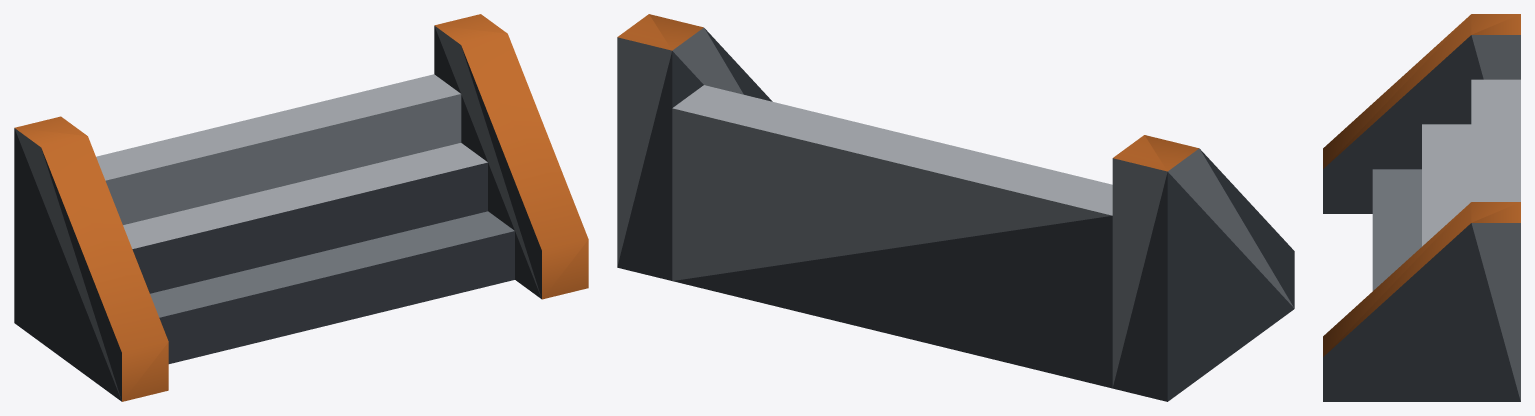
File: Kit_stairs-small-edges.fbx
3 renders of one model, left to right at view 1: azimuth 30°, elevation 25°; view 2: azimuth 150°, elevation 25°; view 3: azimuth 270°, elevation 25°, orthographic. The views are drawn at different scales.
Visible parts, largest first — view 1: Kit_stairs-small-edges; view 2: Kit_stairs-small-edges; view 3: Kit_stairs-small-edges.
Part boxes in pixels (bbox=[...]): Kit_stairs-small-edges: bbox=[14, 14, 588, 401]; Kit_stairs-small-edges: bbox=[617, 14, 1294, 401]; Kit_stairs-small-edges: bbox=[1323, 14, 1520, 401].
Bounding box in the file's own units: 1 × 0.4 × 0.4.
